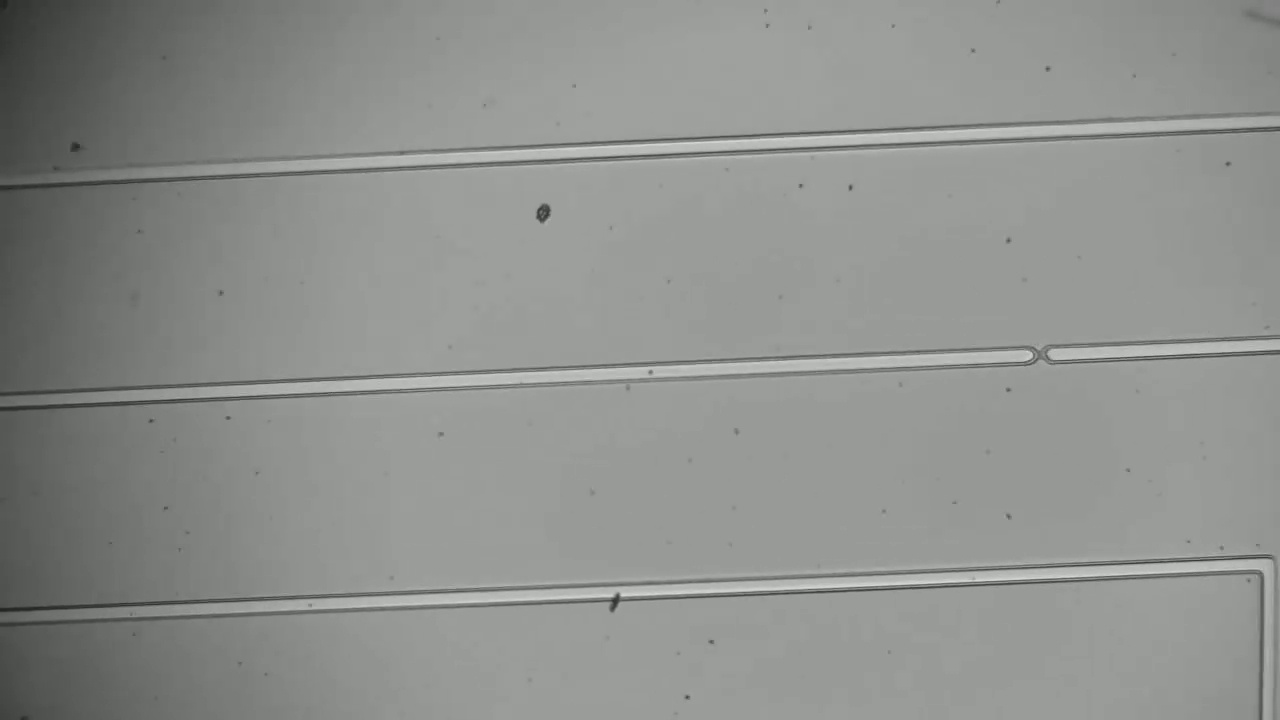open: (1014, 326, 1076, 378)
stains_enbedded: (595, 569, 642, 623)
